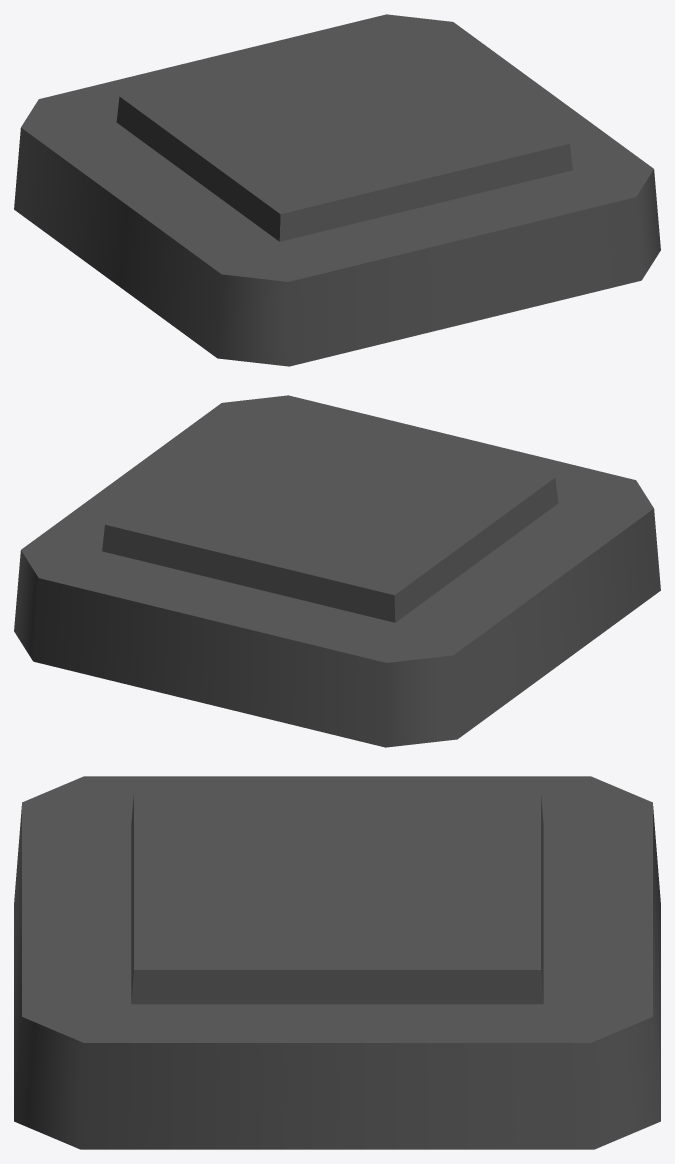
File: Vent_2_B_1.fbx
3 renders of one model, top to bottom at view 1: azimuth 30°, elevation 25°; view 2: azimuth 150°, elevation 25°; view 3: azimuth 270°, elevation 25°, orthographic. The views are drawn at different scales.
Parts seen in each view (by area): view 1: Vent_2_B_1; view 2: Vent_2_B_1; view 3: Vent_2_B_1.
Boxes of the visible parts, x1,y1,x2,y2 form: Vent_2_B_1: (14, 14, 660, 366); Vent_2_B_1: (14, 395, 660, 747); Vent_2_B_1: (14, 776, 660, 1149).
Size of the model in its own units: 56.66 by 13.19 by 56.66.
